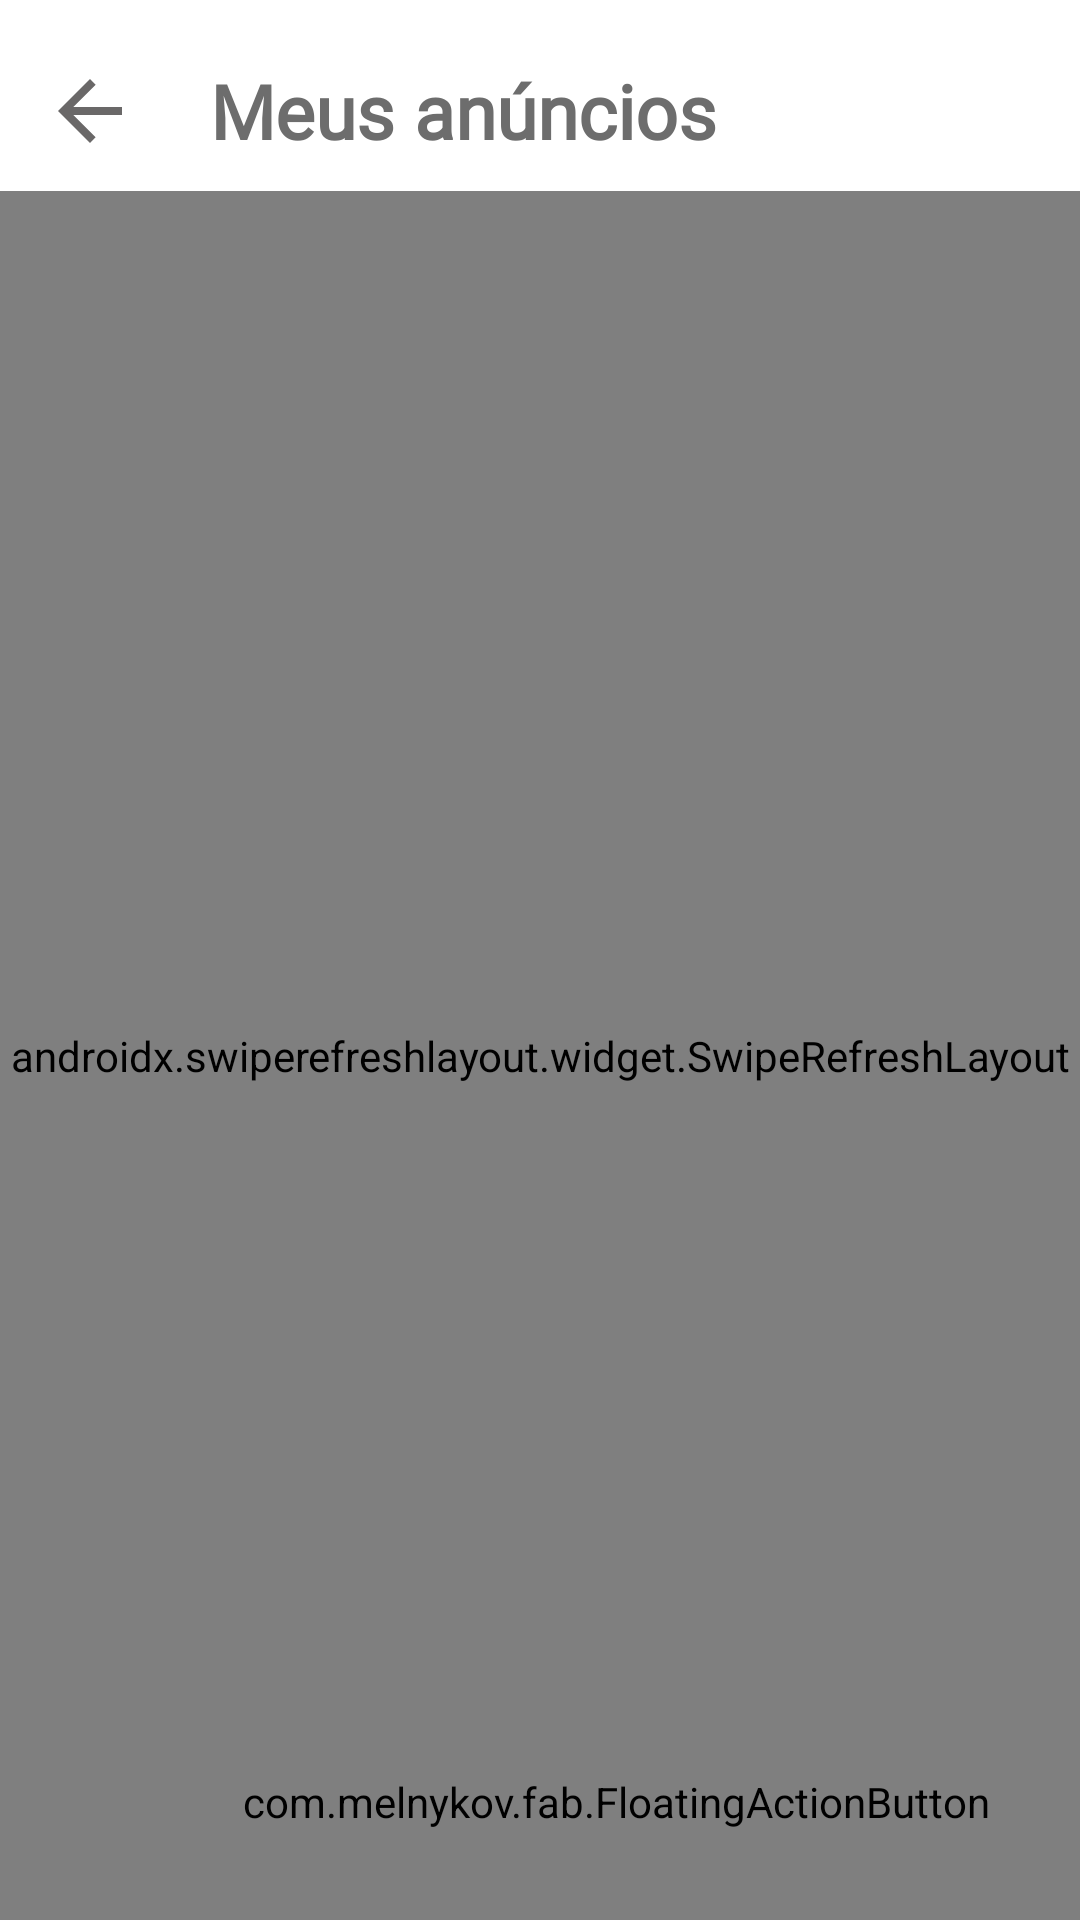

Named icons in this screenshot (1080×1920) and their centers, [x,y]:
arrow back: [90,111]
